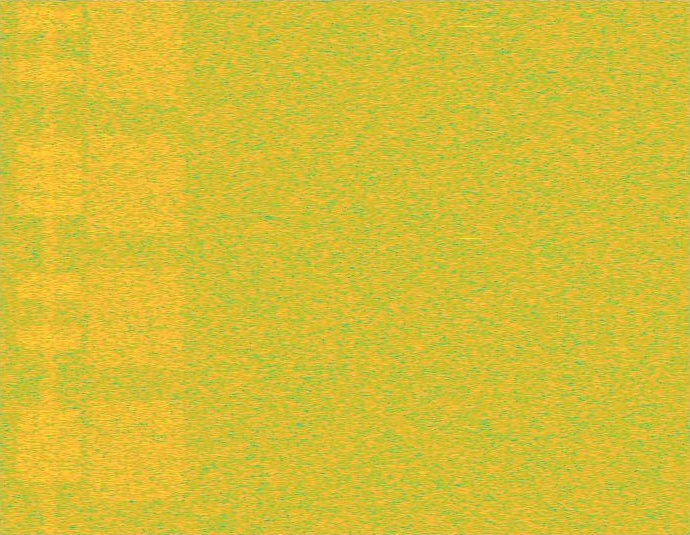5G: (84, 0, 188, 534)
DSSS: (41, 0, 57, 534)
LTE: (15, 0, 84, 534)
Radar: (463, 0, 477, 534)
